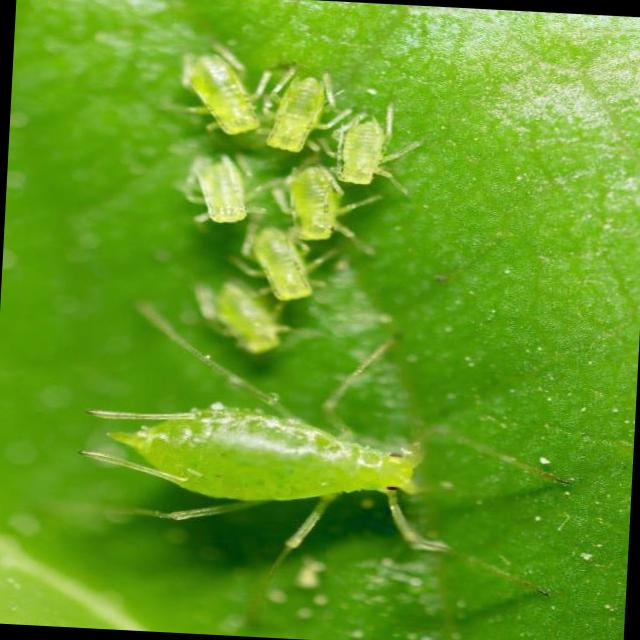aphid: (62, 353, 492, 588), (162, 142, 282, 237), (164, 40, 270, 141), (236, 214, 332, 314), (268, 152, 366, 246), (325, 99, 413, 202), (512, 56, 518, 58)
